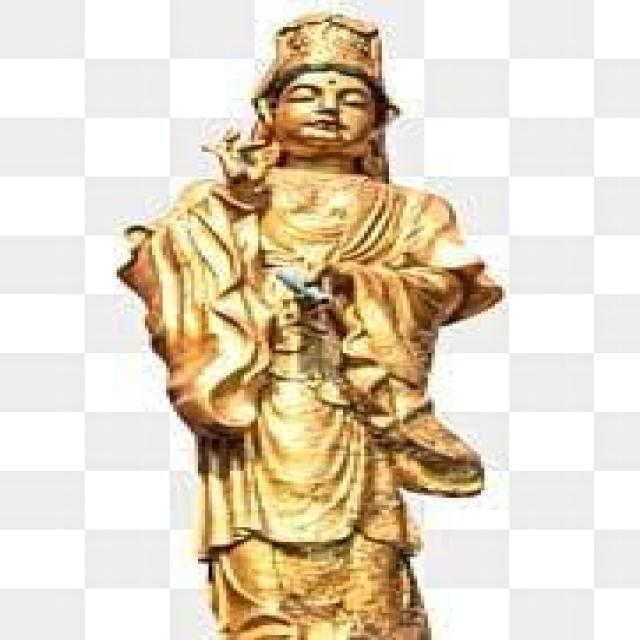Guan Yin: (109, 9, 511, 576)
